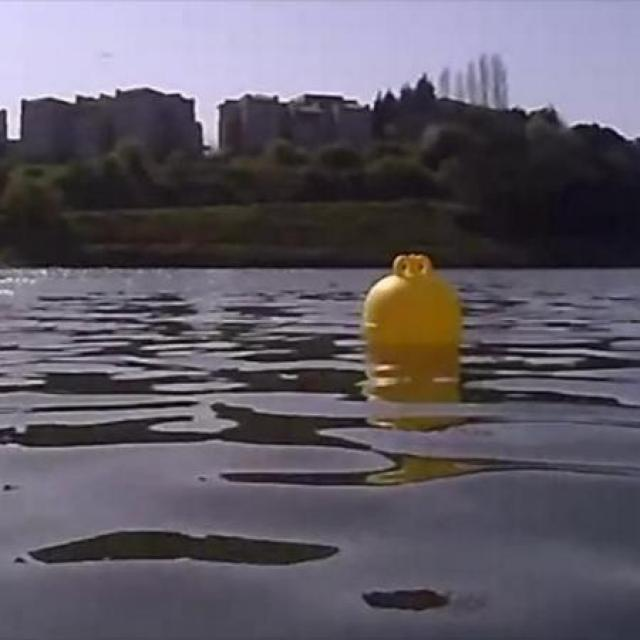buoy: (360, 252, 464, 352)
